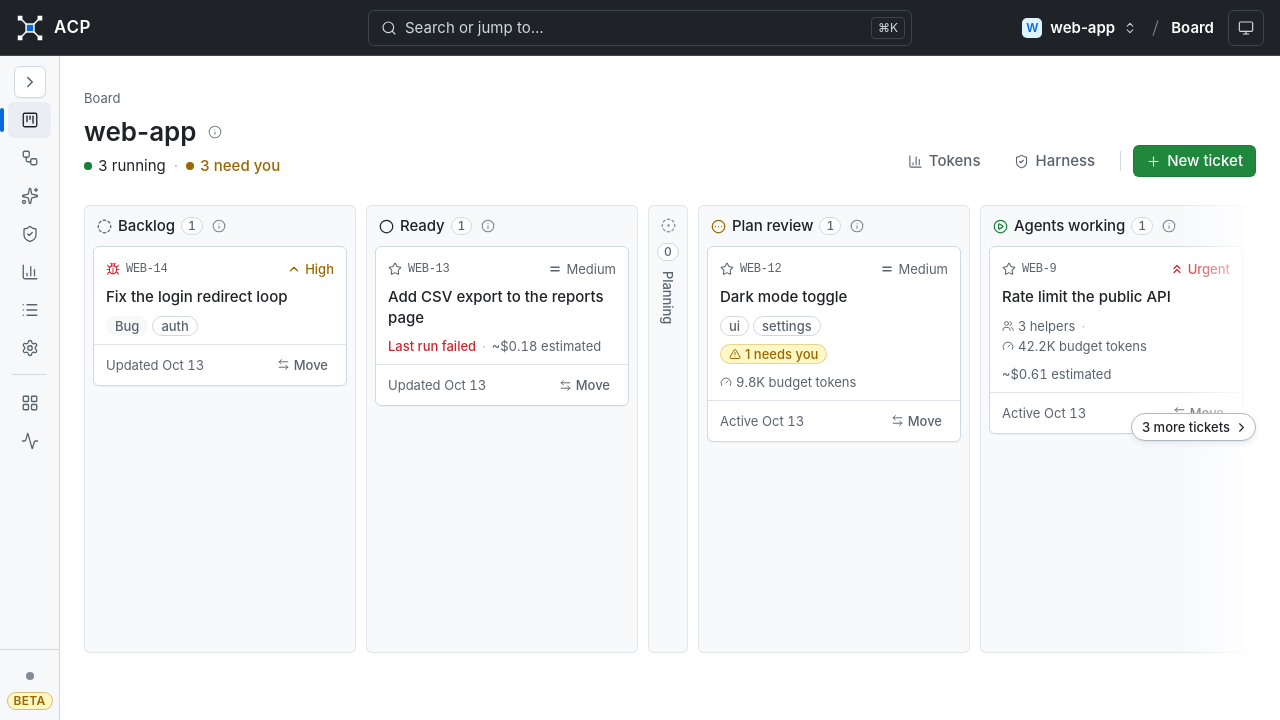
it: command palette › says when nothing matches
The width and height of the screenshot is (1280, 720).
Expected: the element with test id "board-counts" is shown, 84,155 -> 280,177
Press k
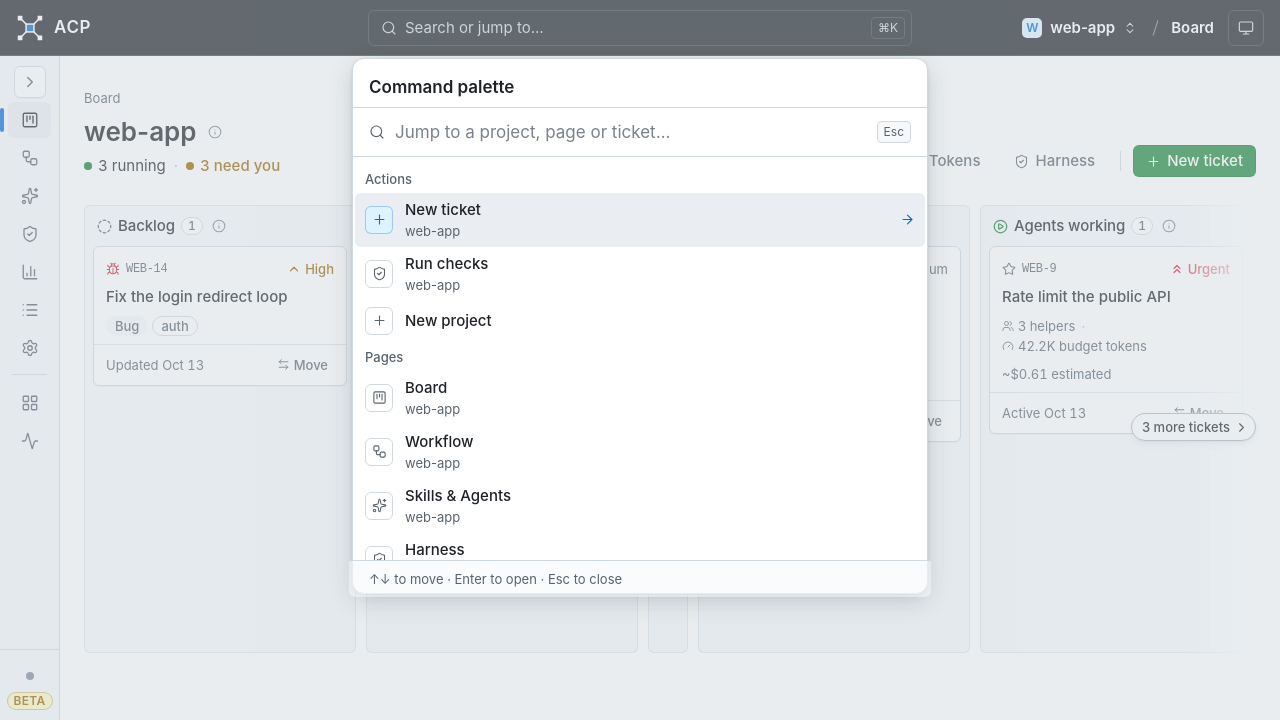
Type "no such thing" into the dropdown named "Search projects, pages and tickets".
click(631, 132); type("no such thing")  # box 395,108 -> 867,156
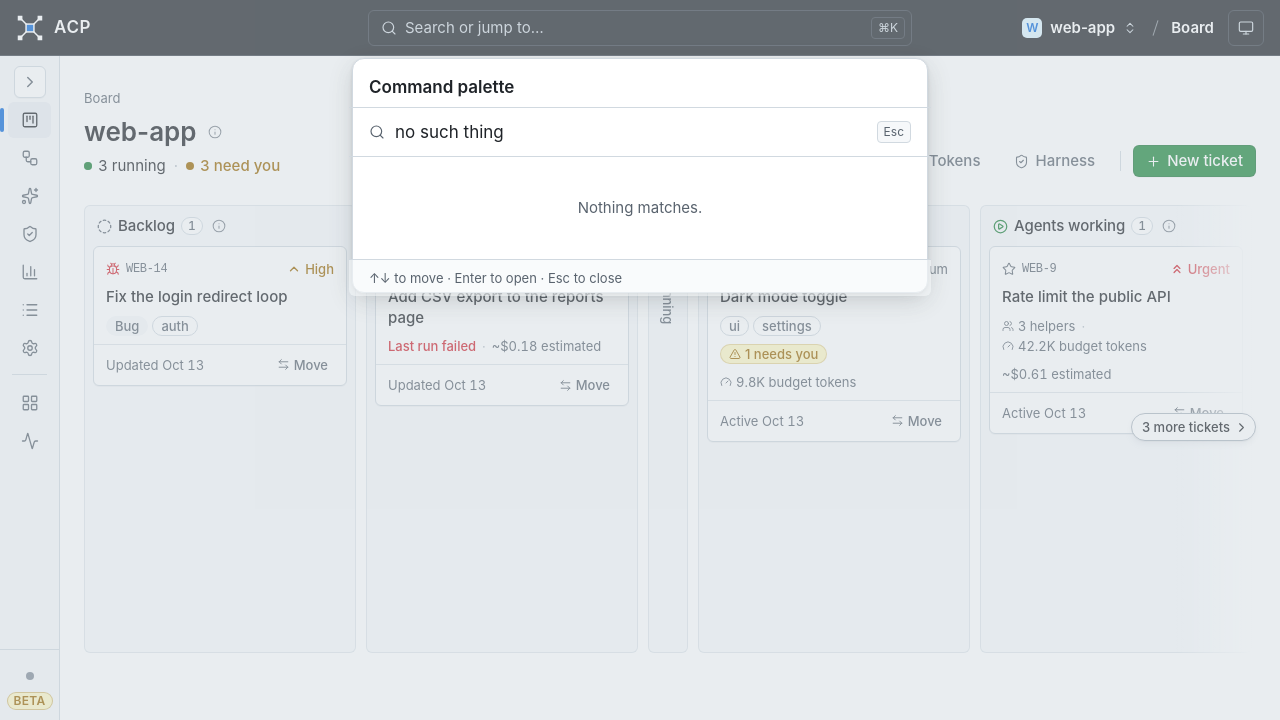
Expected: the message reads "Nothing matches.", 578,198 -> 702,217
